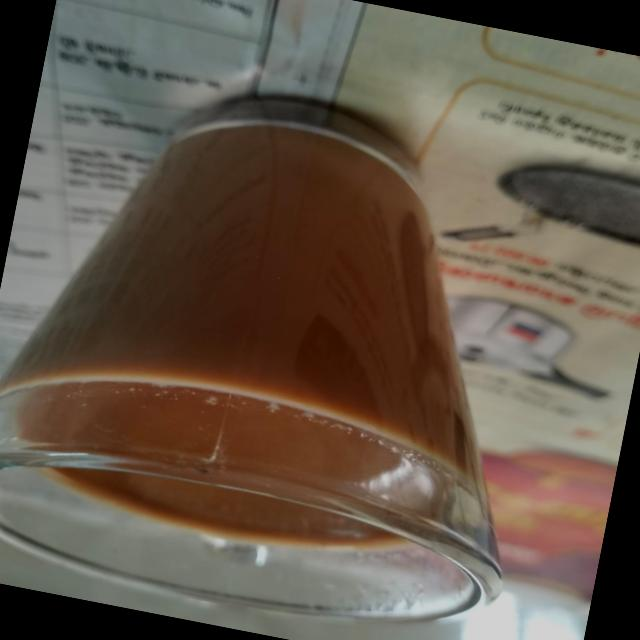glass-VX4N: (0, 47, 591, 640)
